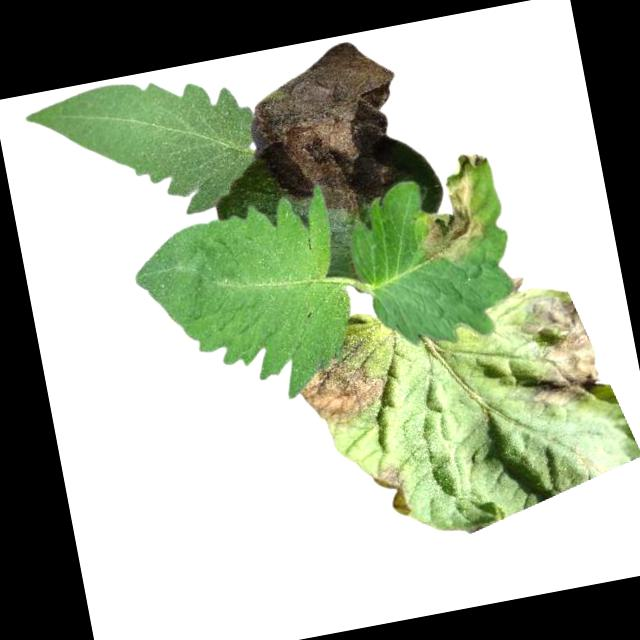Late_blight: (240, 34, 417, 228), (501, 281, 606, 416), (403, 146, 506, 272), (290, 345, 390, 436), (372, 462, 411, 518), (508, 274, 526, 293)
healthy: (126, 179, 365, 423), (21, 60, 267, 241)
